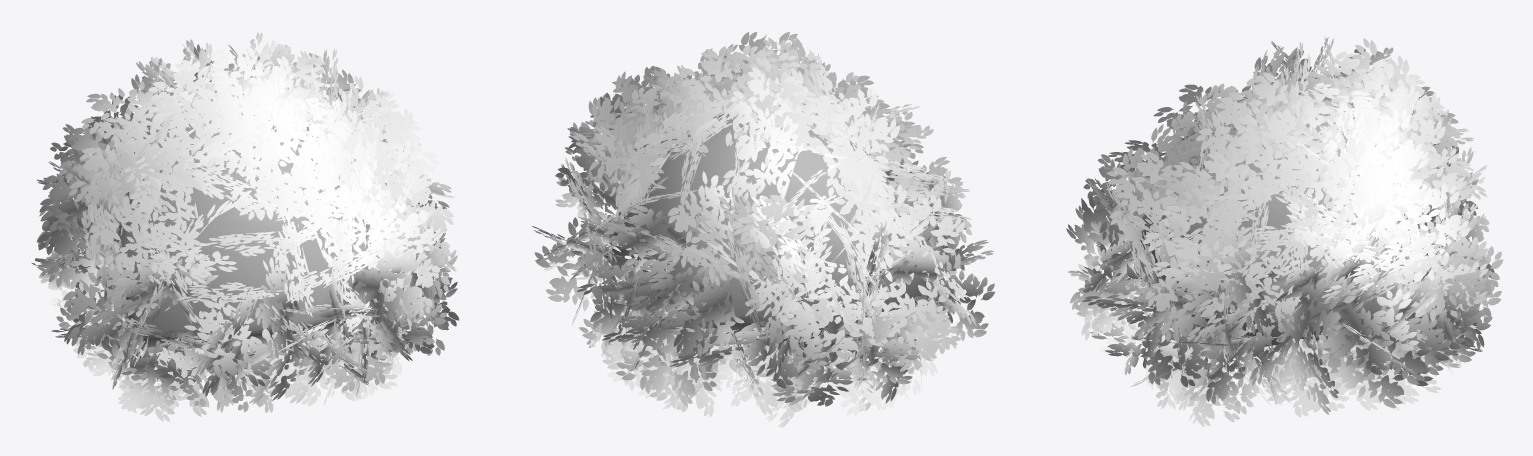
File: TreeTopCardsLP.fbx
The picture shows the model from 3 angles, left to right: view 1: azimuth 30°, elevation 25°; view 2: azimuth 150°, elevation 25°; view 3: azimuth 270°, elevation 25°; orthographic projection. The views are drawn at different scales.
Parts seen in each view (by area): view 1: LOD2_copy2.195, LOD2_copy2.194; view 2: LOD2_copy2.195, LOD2_copy2.194; view 3: LOD2_copy2.195, LOD2_copy2.194.
Part boxes in pixels (<box>): LOD2_copy2.195: <box>31,32,459,421</box>; LOD2_copy2.194: <box>111,104,389,351</box>; LOD2_copy2.195: <box>532,32,995,428</box>; LOD2_copy2.194: <box>604,105,928,350</box>; LOD2_copy2.195: <box>1066,36,1503,426</box>; LOD2_copy2.194: <box>1133,101,1423,356</box>.
Bounding box in the file's own units: 723 × 616 × 723.
